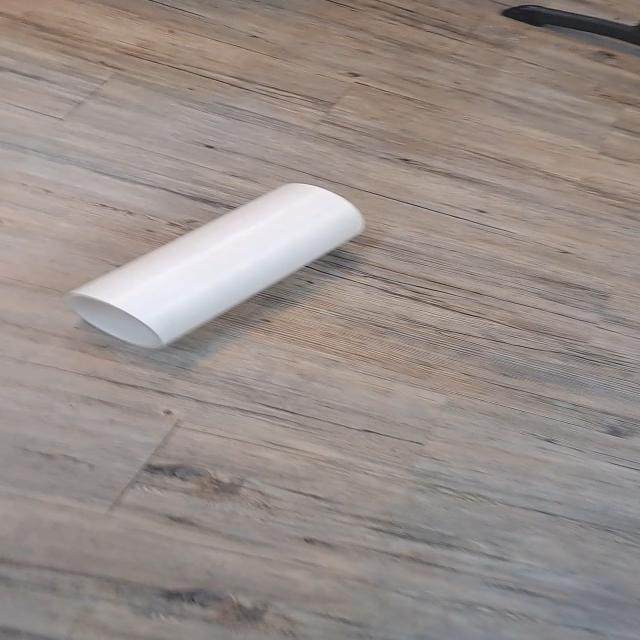CORAL: (66, 175, 371, 368)
